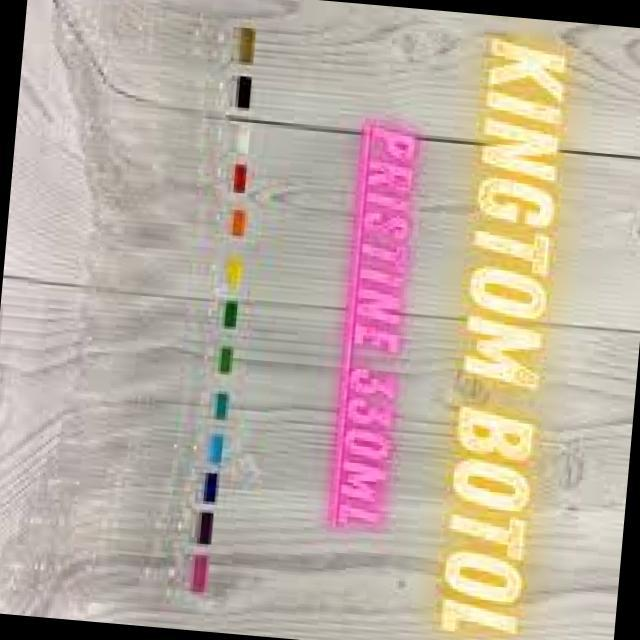good: (0, 525, 218, 615), (28, 400, 240, 490), (48, 83, 264, 171), (50, 38, 261, 128), (58, 304, 245, 400), (61, 127, 267, 210), (15, 483, 221, 566), (66, 228, 257, 312), (49, 354, 242, 436), (44, 0, 263, 72), (34, 443, 222, 521), (61, 270, 248, 348), (69, 178, 253, 256)
